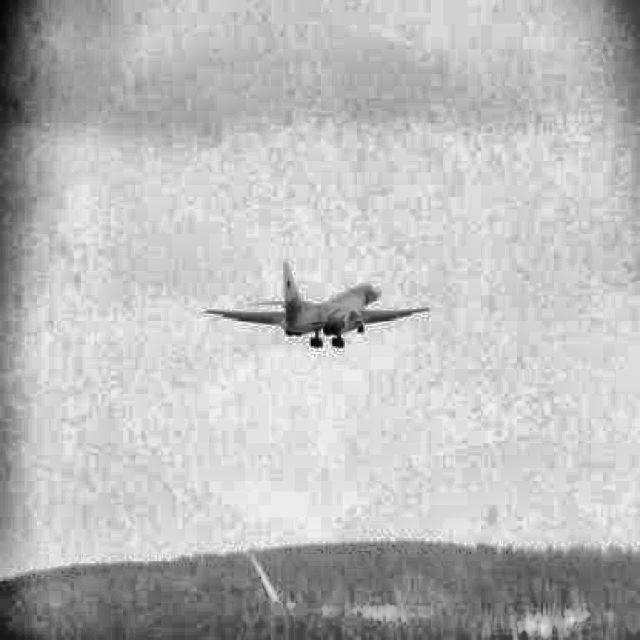Tu160: (205, 262, 429, 348)
